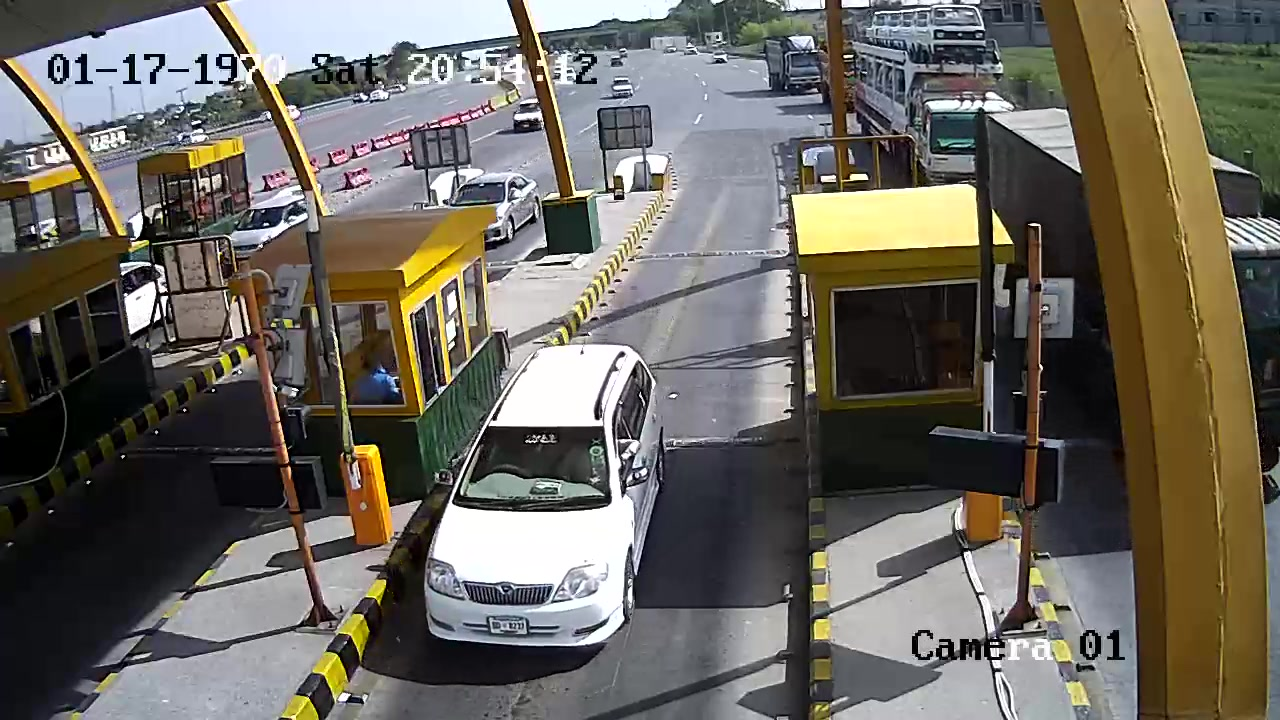F1: (425, 335, 678, 651)
